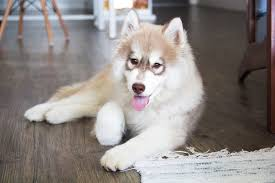Siberian Husky: (23, 13, 214, 170)
